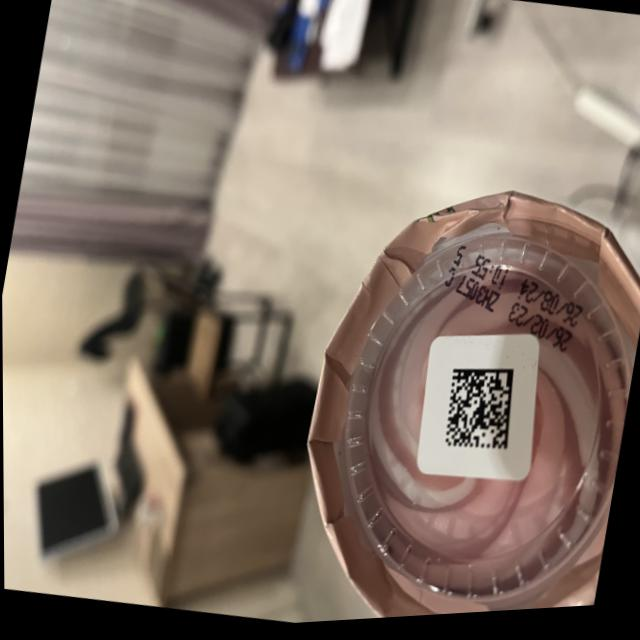datamatrix: (439, 364, 521, 463)
